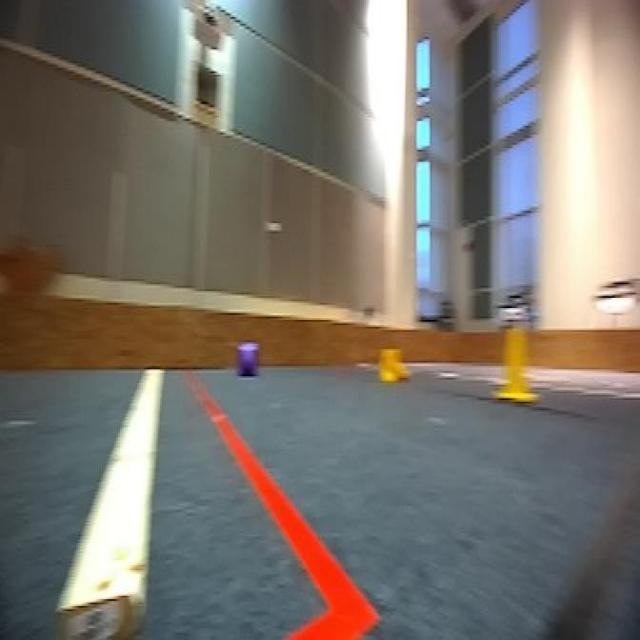frc_cone: (489, 320, 541, 403), (374, 344, 416, 386)
frc_cube: (236, 339, 260, 376)
